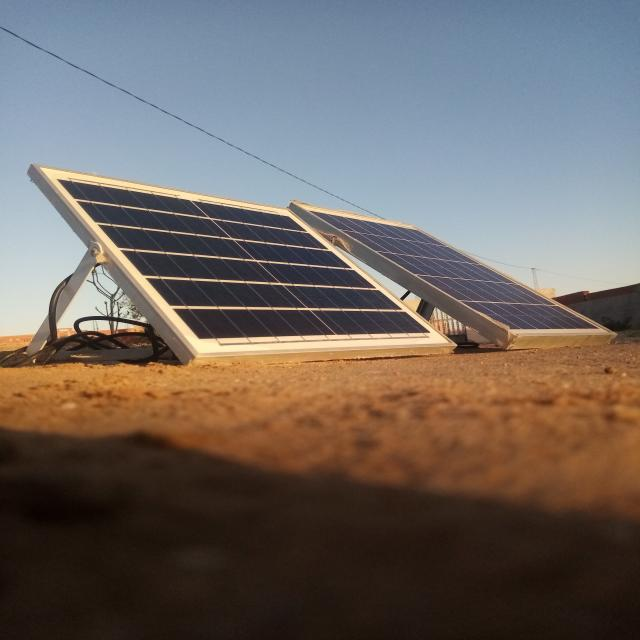no faulty: (34, 165, 454, 355), (298, 207, 615, 337)
